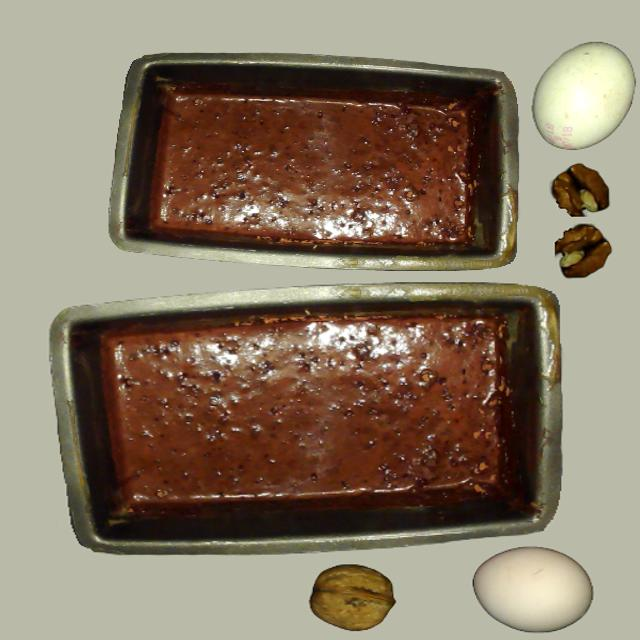Walnut: (294, 561, 411, 640), (310, 564, 394, 632)
